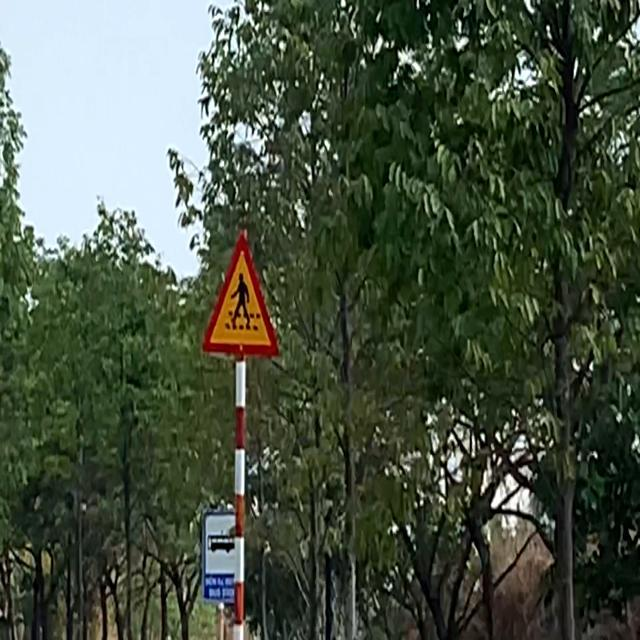Nguoi di bo cat ngang: (200, 230, 282, 362)
